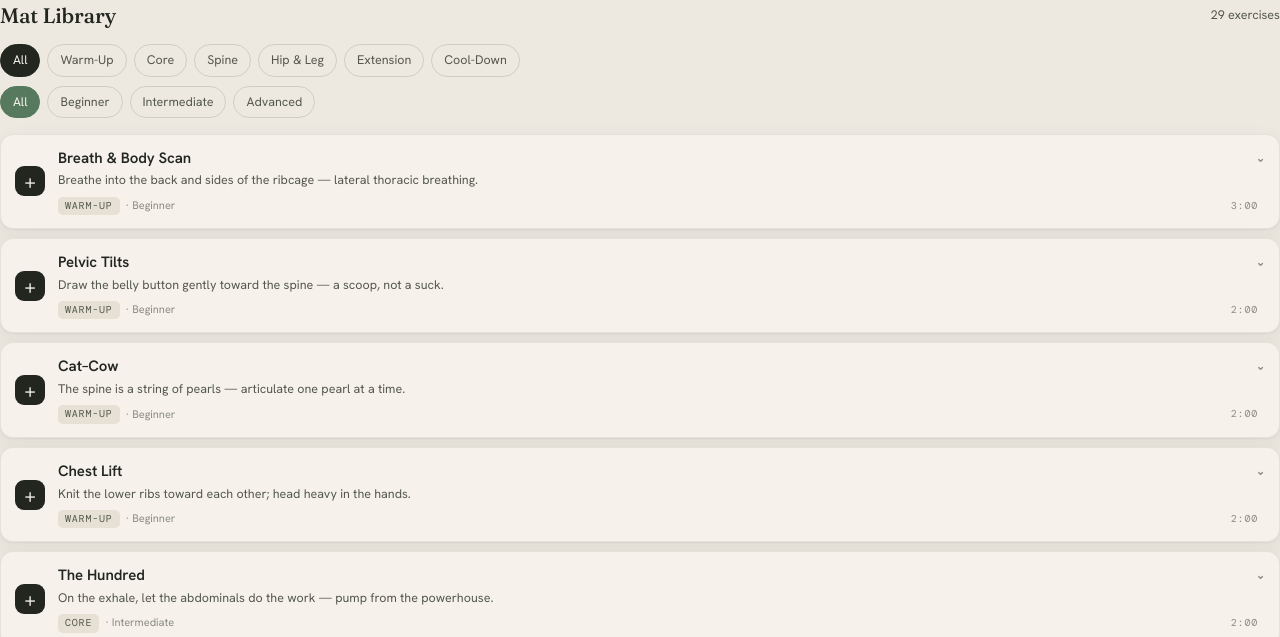
Test: Exercise card expand/collapse › toggles expanded detail when the card body is clicked
Expected: the text "Slow, even breath" is not shown
What coordinates should you click on to do the following:
click the button "Breath & Body Scan"
I would click on:
 (125, 158)
Its box is [58,148,1265,215].
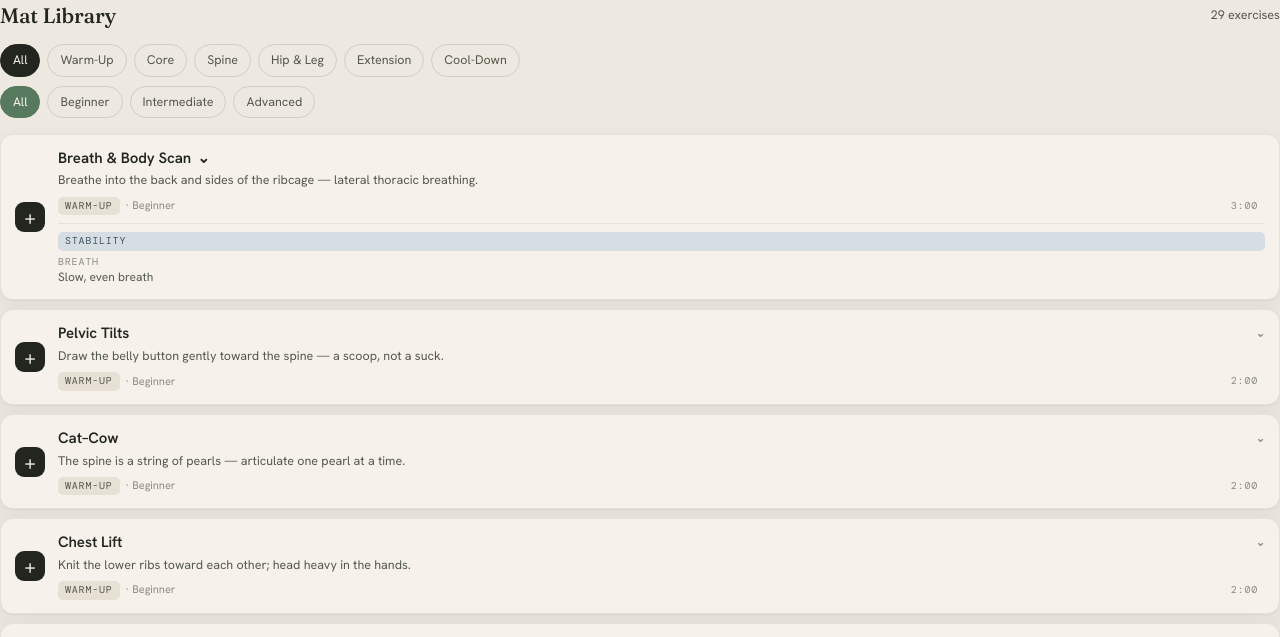
Result: the text "Slow, even breath" is shown at [58,269,153,285]
What coordinates should you click on to do the following:
click the button "Breath & Body Scan"
I would click on:
 (662, 217)
Its box is [58,148,1265,286].
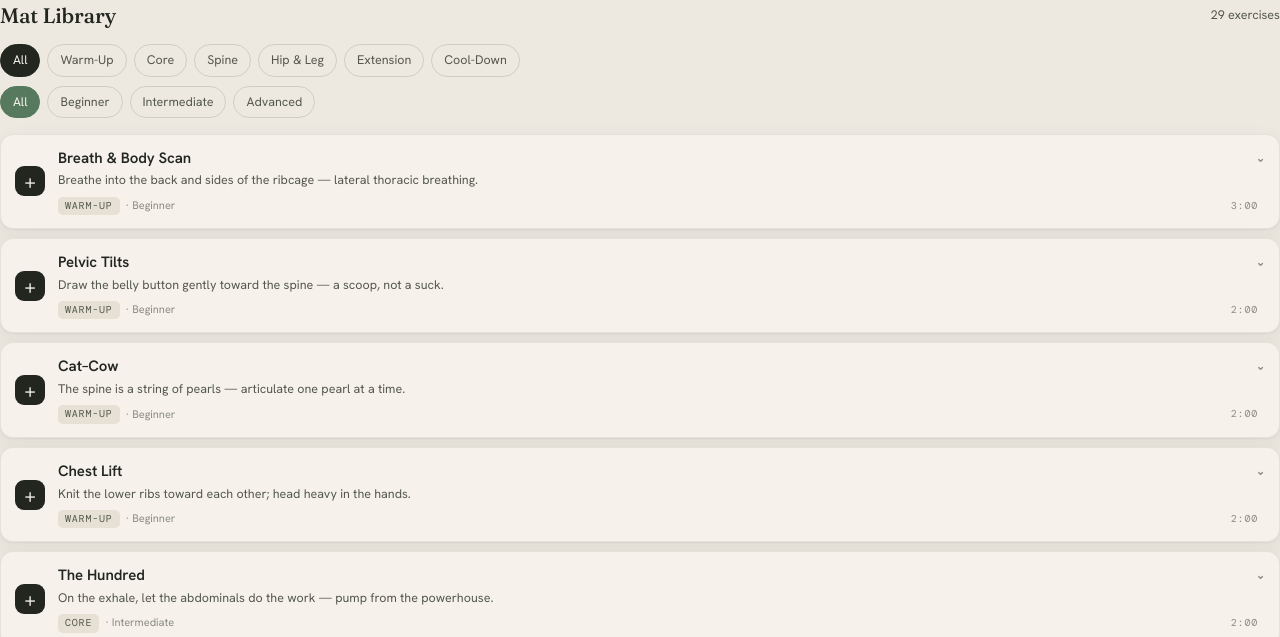
Result: the text "Slow, even breath" is gone
